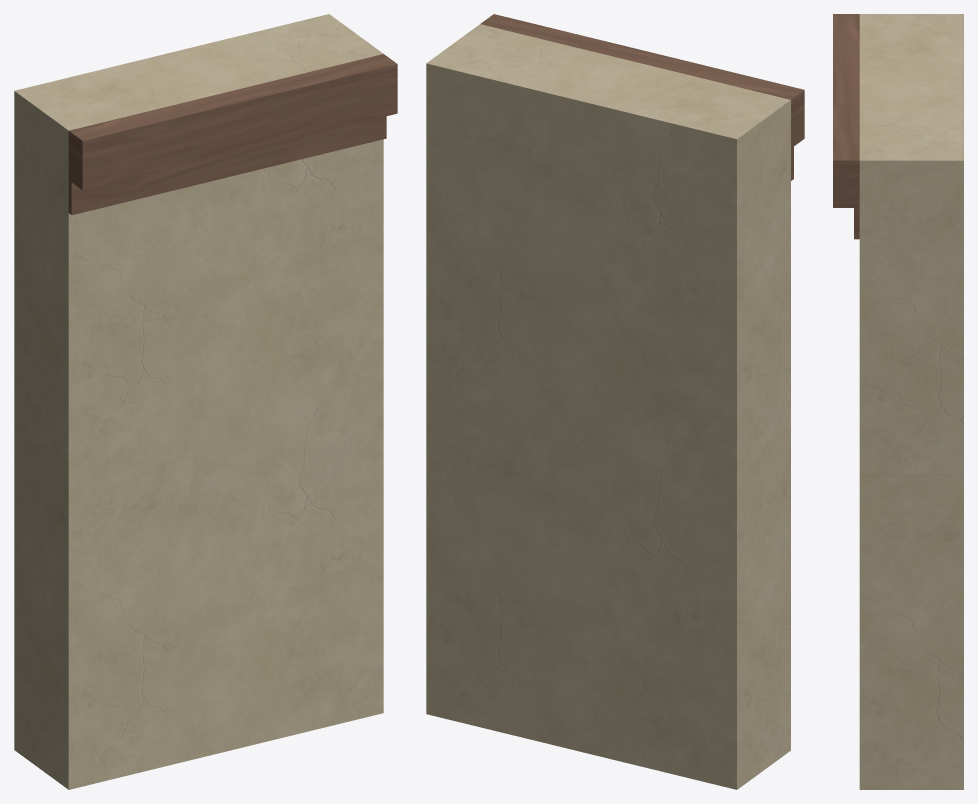
Rendered from Wall.obj.
3 renders of one model, left to right at view 1: azimuth 30°, elevation 25°; view 2: azimuth 150°, elevation 25°; view 3: azimuth 270°, elevation 25°, orthographic. The views are drawn at different scales.
Parts seen in each view (by area): view 1: Wall_Tavern_Interior_Atlas; view 2: Wall_Tavern_Interior_Atlas; view 3: Wall_Tavern_Interior_Atlas.
Part boxes in pixels (x1,y1,x2,y2): Wall_Tavern_Interior_Atlas: [14, 14, 397, 789]; Wall_Tavern_Interior_Atlas: [426, 14, 804, 789]; Wall_Tavern_Interior_Atlas: [833, 14, 963, 789].
Size of the model in its own units: 2 by 4 by 0.7533.
Materials: 1 (1 with a texture image).
